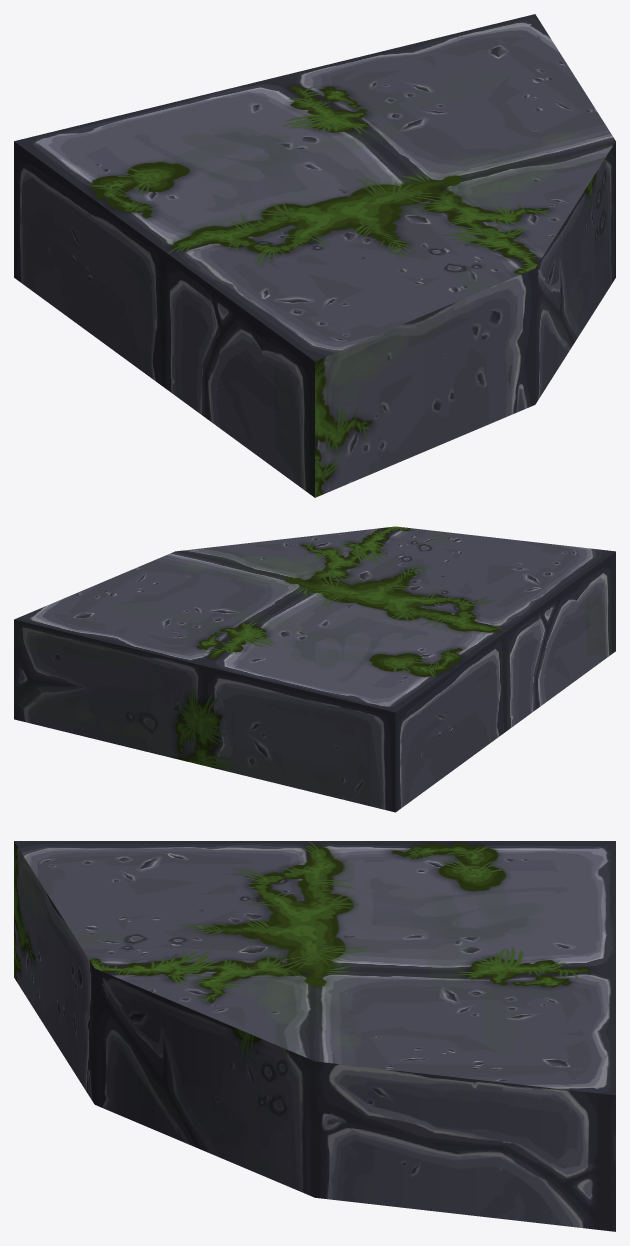
File: MOD_Floor_01_E_convex_tiny.fbx
The picture shows the model from 3 angles, top to bottom: view 1: azimuth 30°, elevation 25°; view 2: azimuth 150°, elevation 25°; view 3: azimuth 270°, elevation 25°; orthographic projection. The views are drawn at different scales.
Visible parts, largest first — view 1: MOD_Floor_01_E_convex_tiny; view 2: MOD_Floor_01_E_convex_tiny; view 3: MOD_Floor_01_E_convex_tiny.
Boxes of the visible parts, left/top/right/bottom form: MOD_Floor_01_E_convex_tiny: left=14, top=14, right=615, bottom=497; MOD_Floor_01_E_convex_tiny: left=14, top=526, right=615, bottom=812; MOD_Floor_01_E_convex_tiny: left=14, top=841, right=615, bottom=1231.
Bounding box in the file's own units: 200 × 50 × 200.
